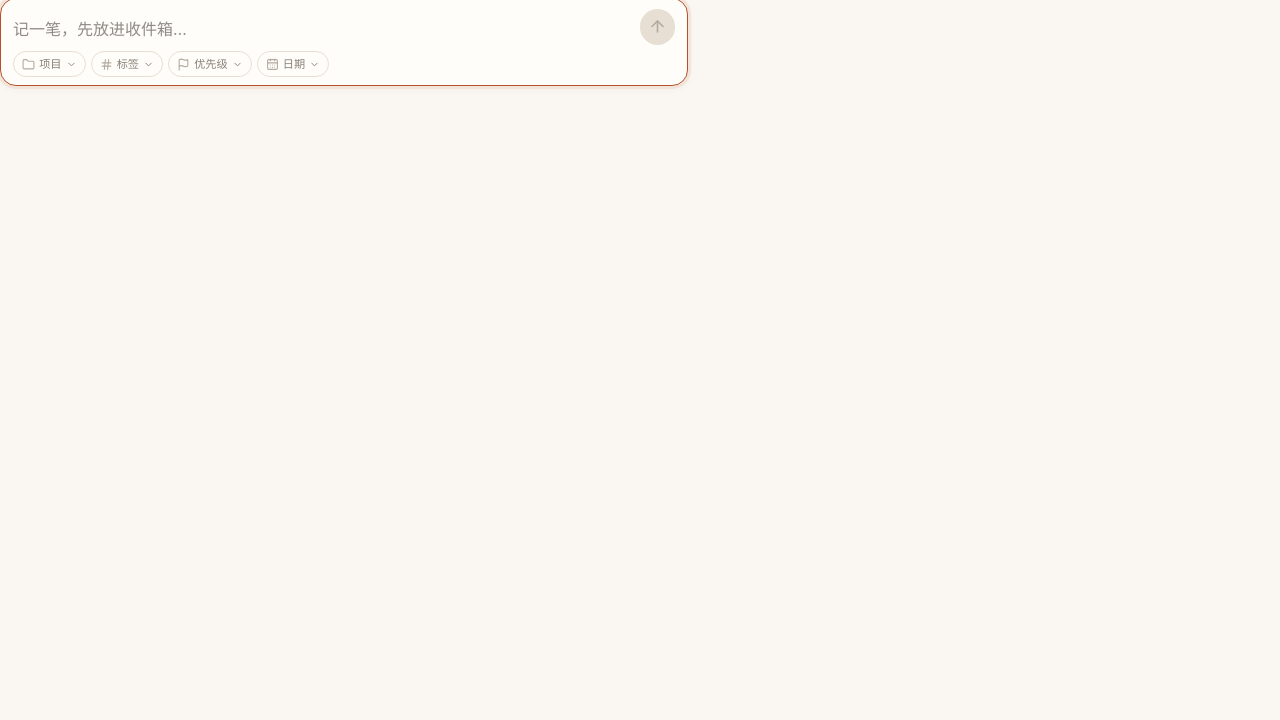
Test case: keeps failed input for retry
Type "不能丢失的草稿" into the text box labelled "记一笔" at (321, 29), box [13,13,629,45]
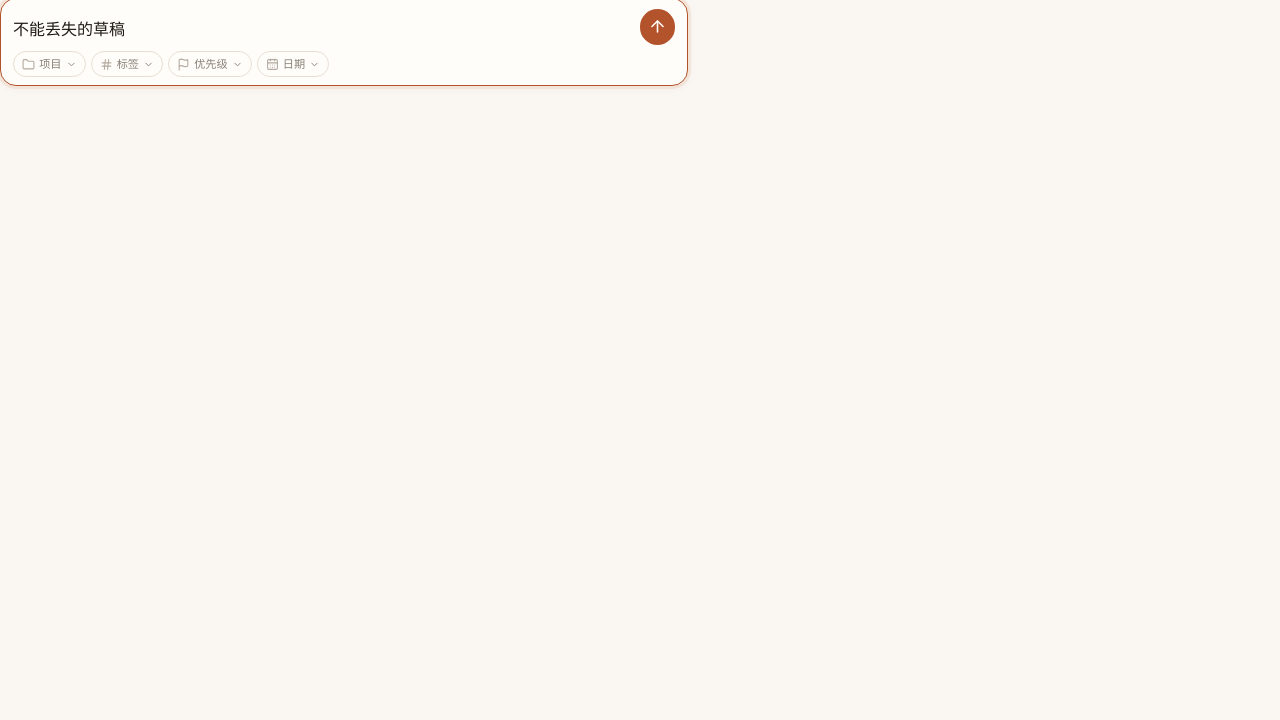
Click the button named "存进收件箱" at (657, 27), box [640,9,675,45]
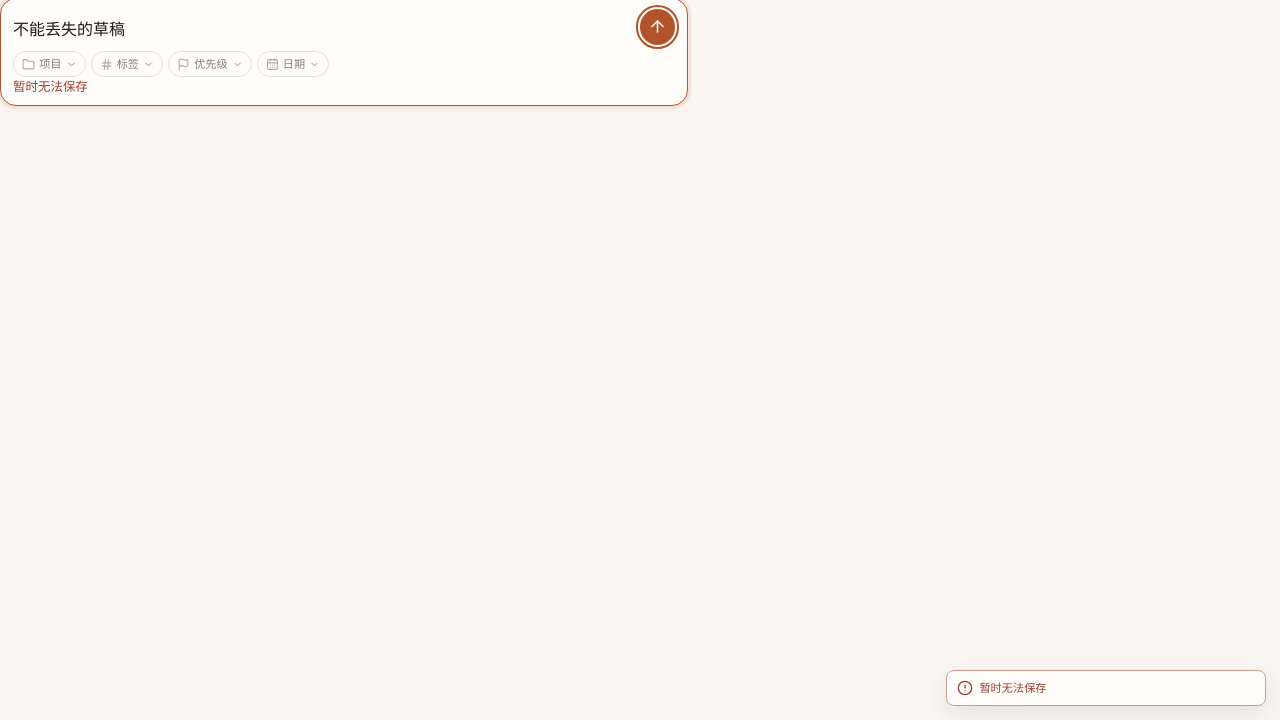
Now the 1st message "暂时无法保存" is shown, box [13,79,88,94]
